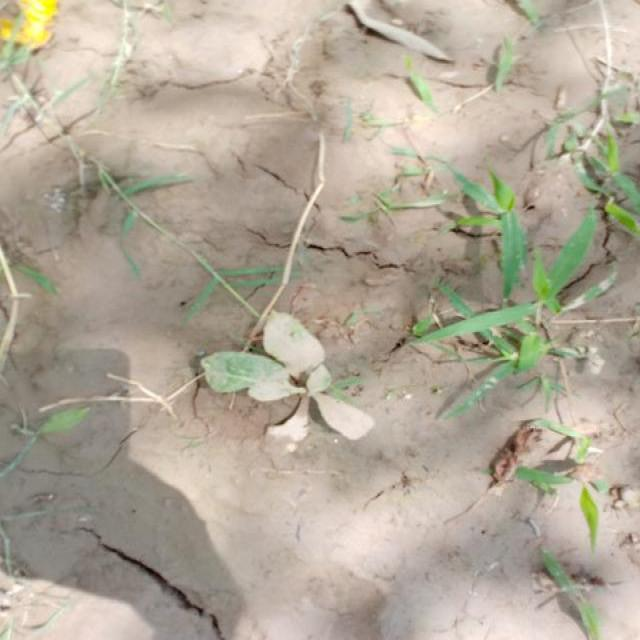crop: (190, 306, 379, 445)
